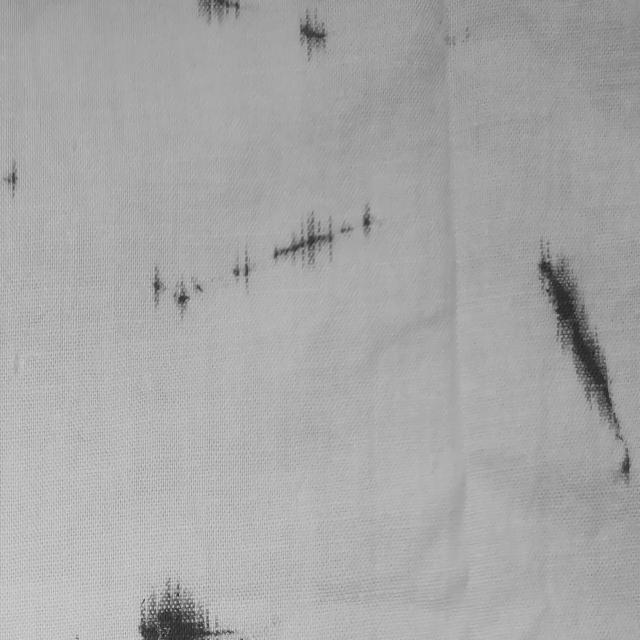Stain: (540, 243, 632, 480), (138, 580, 233, 640), (271, 210, 356, 269), (300, 7, 327, 59), (171, 278, 205, 319), (230, 245, 255, 294), (198, 0, 240, 22), (151, 265, 170, 309), (2, 158, 17, 198), (360, 202, 375, 237)
